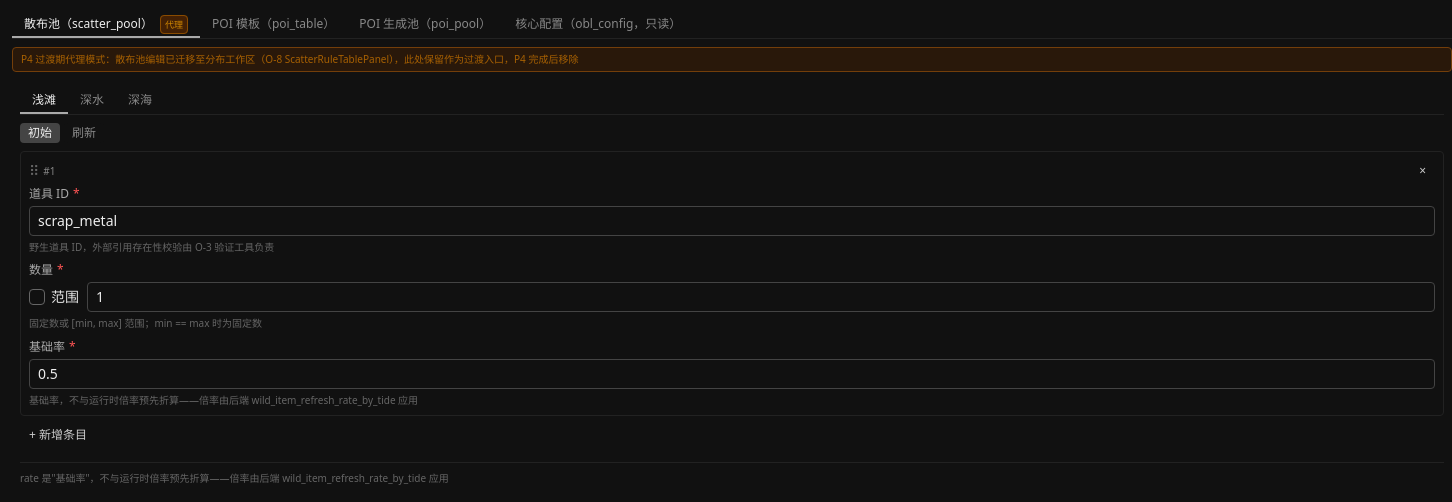
ConfigPanel › 点击 POI 模板 Tab 切换到 poi_table
Click the button "POI 模板（poi_table）": (274,25) [200, 12, 347, 38]
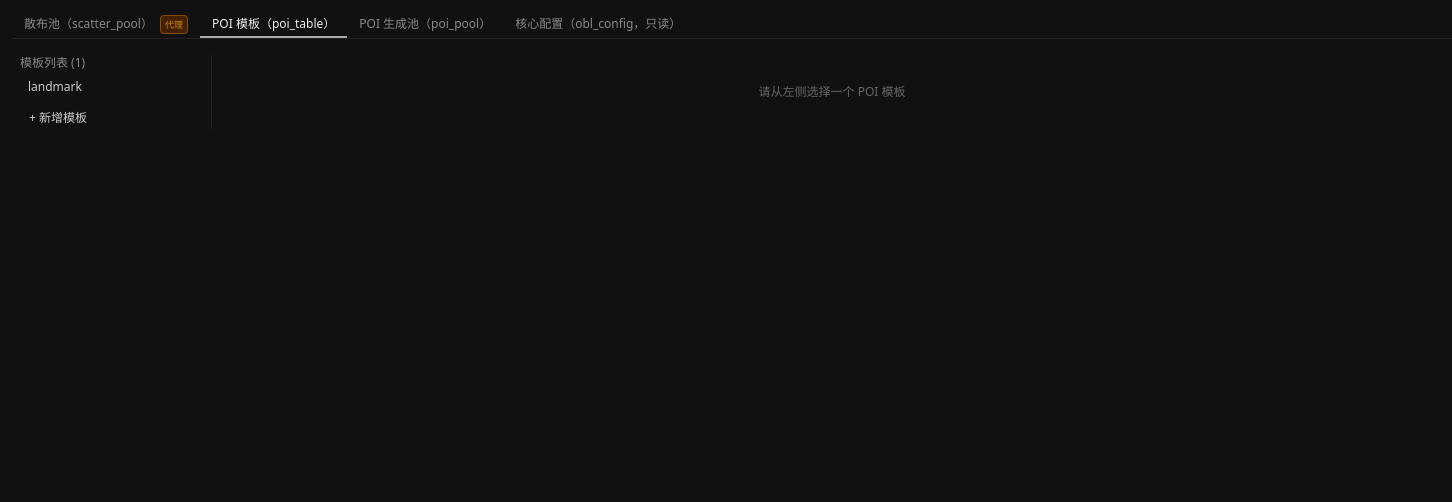
Expected: the text "landmark" is shown, [28, 79, 195, 95]
Expected: the text "模板列表" is shown, [20, 55, 85, 71]
